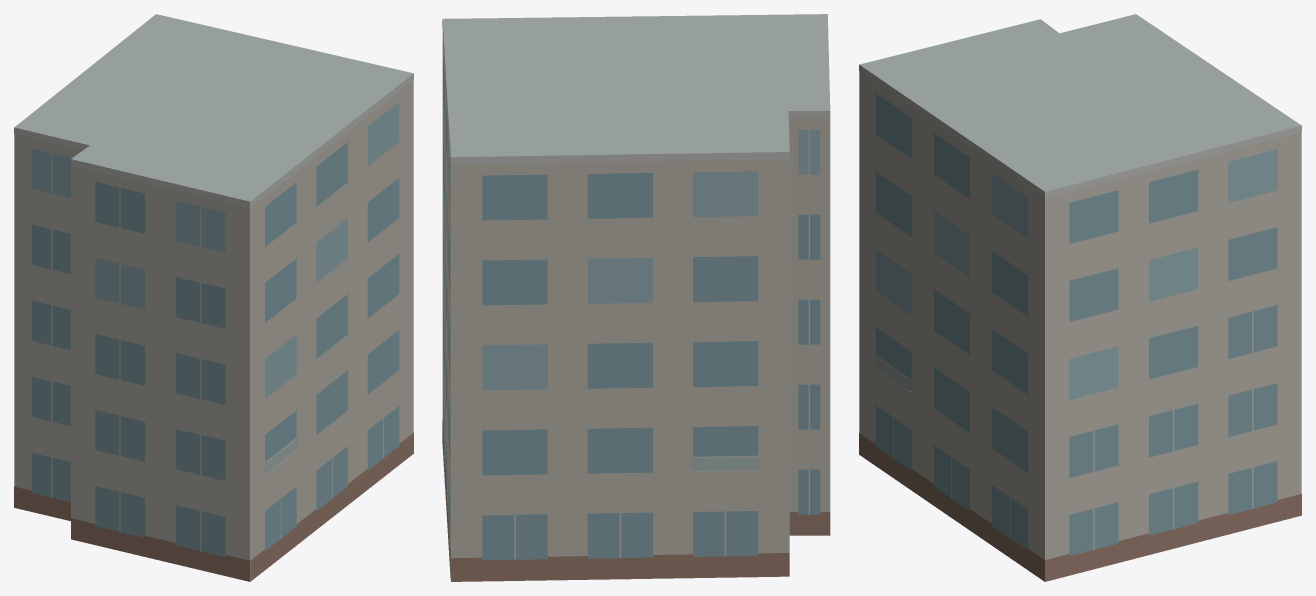
Rendered from survey-upis-33017650.glb.
The picture shows the model from 3 angles, left to right: view 1: azimuth 30°, elevation 25°; view 2: azimuth 150°, elevation 25°; view 3: azimuth 270°, elevation 25°; orthographic projection. The views are drawn at different scales.
Parts seen in each view (by area): view 1: survey-upis-33017650.tmp; view 2: survey-upis-33017650.tmp; view 3: survey-upis-33017650.tmp.
Part boxes in pixels (x1,y1,x2,y2): survey-upis-33017650.tmp: (14, 14, 413, 581); survey-upis-33017650.tmp: (442, 14, 830, 581); survey-upis-33017650.tmp: (859, 14, 1301, 581).
Size of the model in its own units: 13.89 by 14.2 by 14.61.
